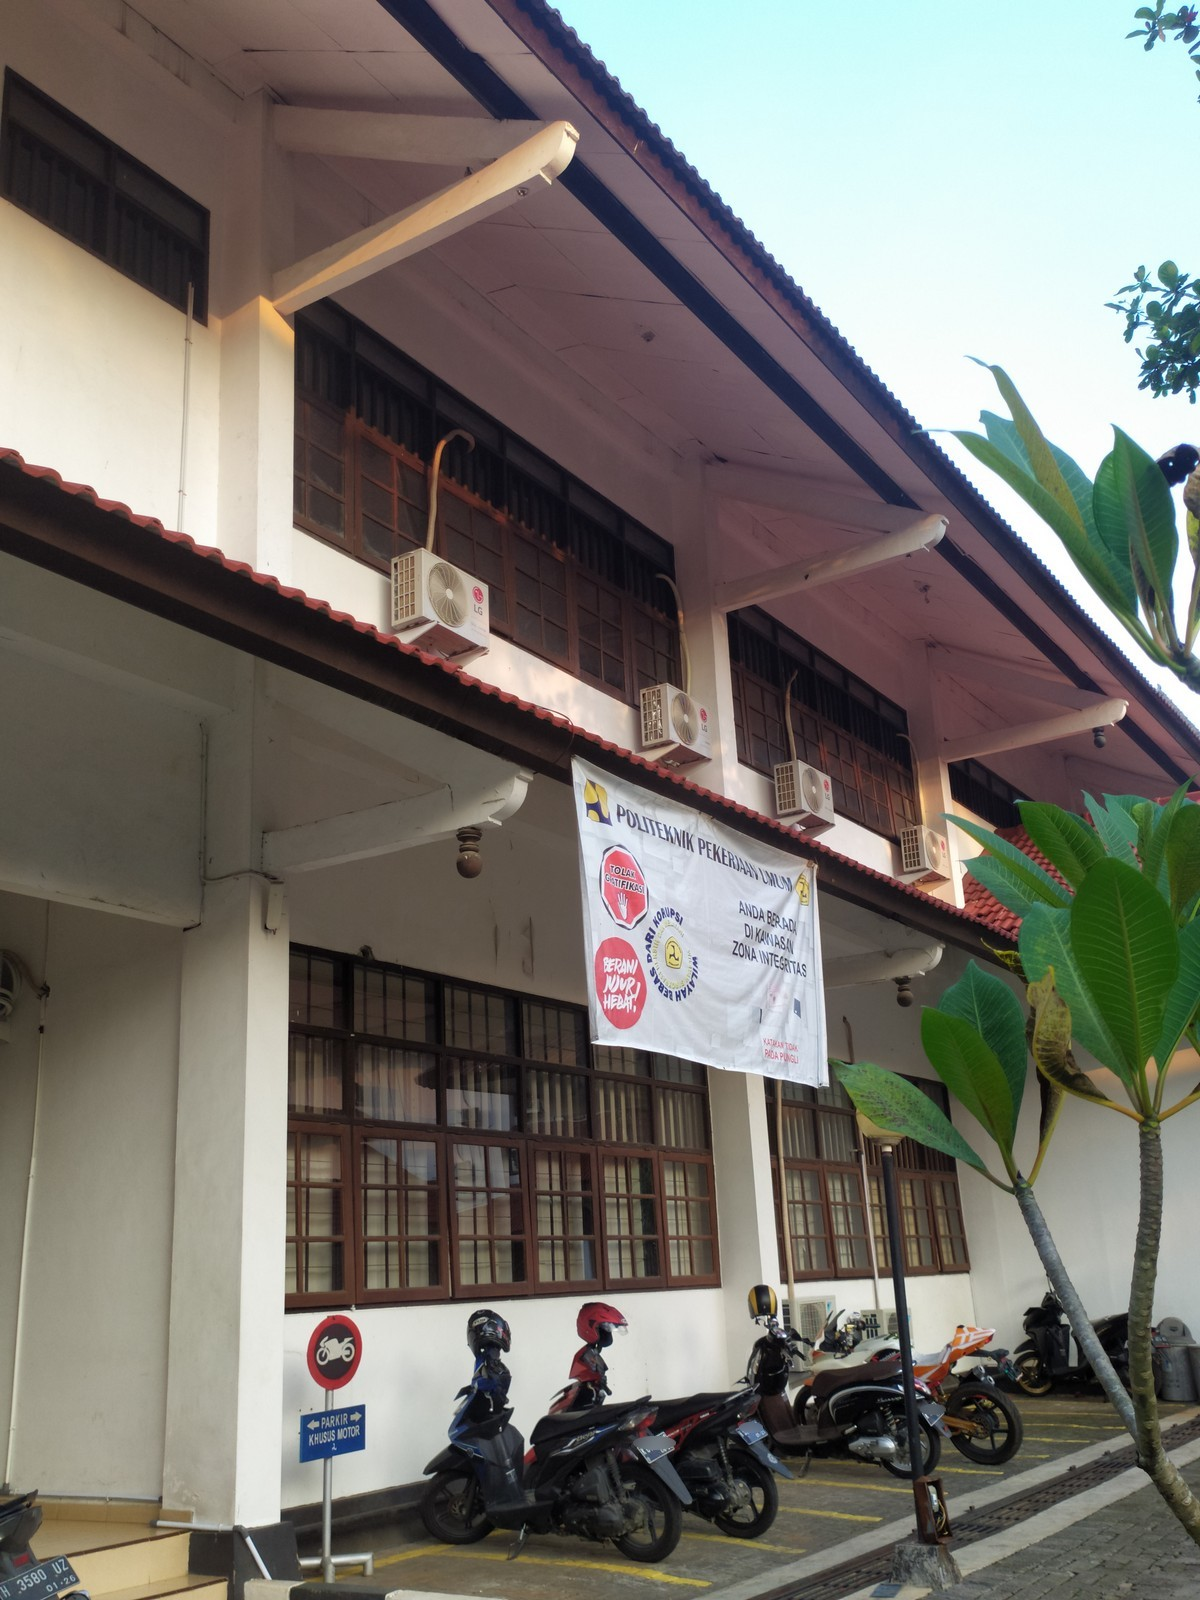concrete beam: (253, 792, 470, 884)
concrete column: (141, 708, 301, 1545), (211, 74, 306, 585), (705, 1046, 795, 1400), (661, 443, 746, 796)
